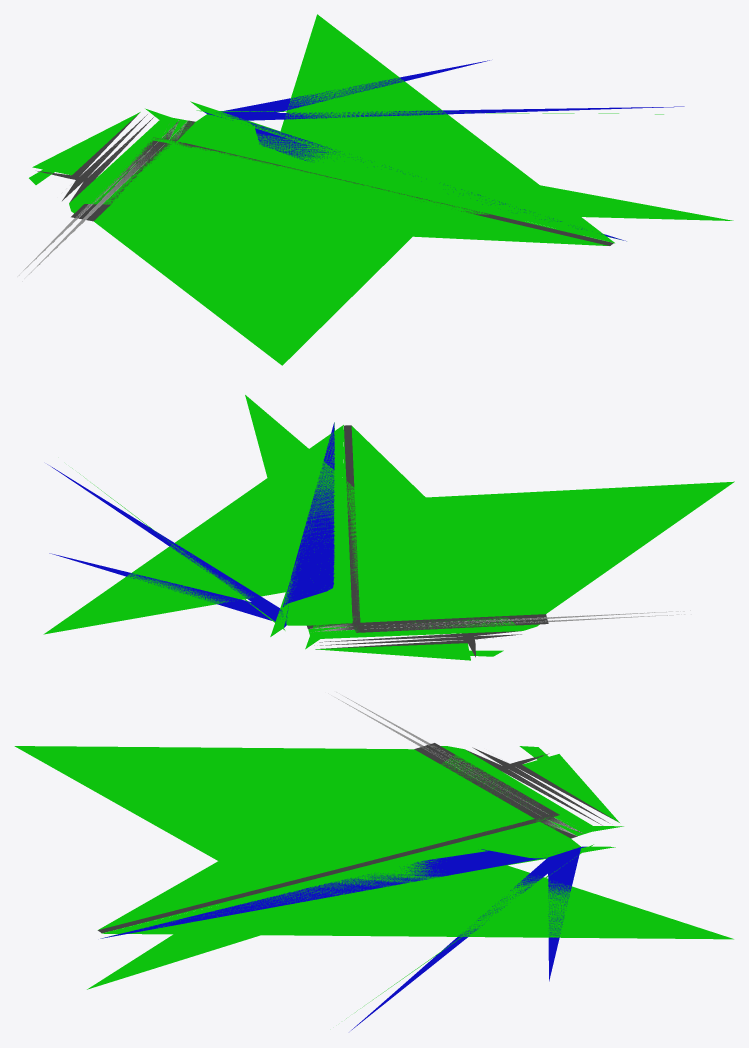
3 renders of one model, top to bottom at view 1: azimuth 30°, elevation 25°; view 2: azimuth 150°, elevation 25°; view 3: azimuth 270°, elevation 25°, orthographic. The views are drawn at different scales.
Size of the model in its own units: 339 by 0.001 by 300.
